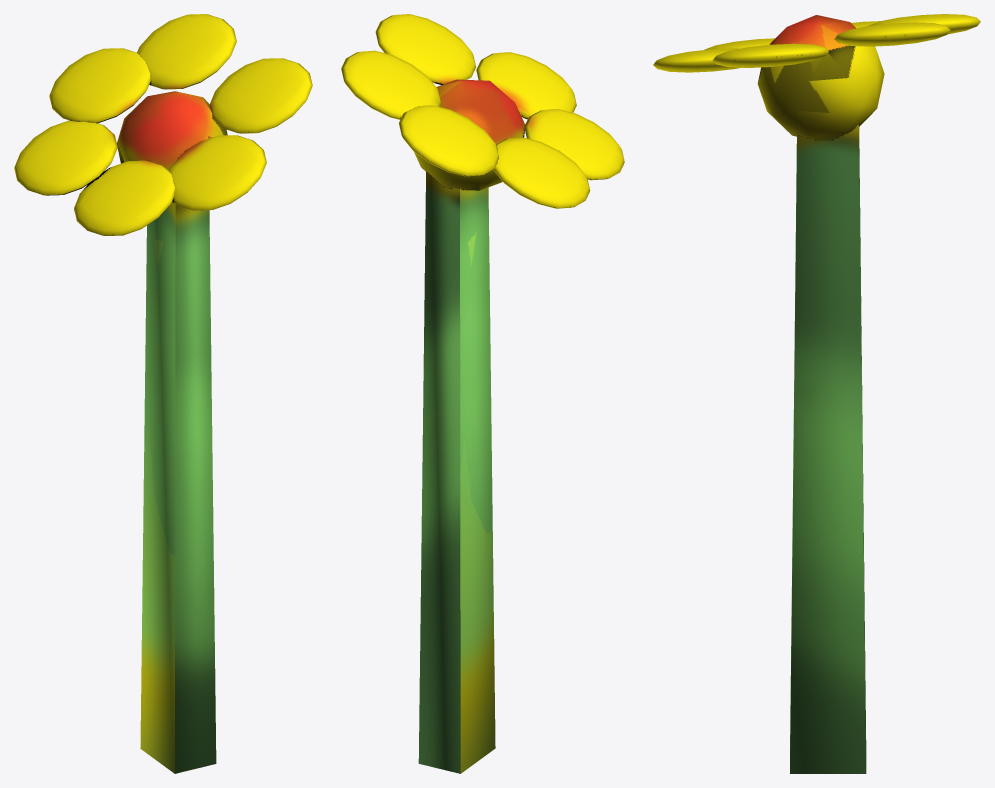
The model's file is Flower.glb.
The picture shows the model from 3 angles, left to right: view 1: azimuth 30°, elevation 25°; view 2: azimuth 150°, elevation 25°; view 3: azimuth 270°, elevation 25°; orthographic projection. The views are drawn at different scales.
Visible parts, largest first — view 1: Flower; view 2: Flower; view 3: Flower.
Boxes of the visible parts, x1=… form: Flower: x1=14, y1=14, x2=312, y2=773; Flower: x1=341, y1=14, x2=624, y2=773; Flower: x1=653, y1=14, x2=980, y2=773.
Size of the model in its own units: 4.32 by 12.11 by 4.66.
Materials: 1 (1 with a texture image).
